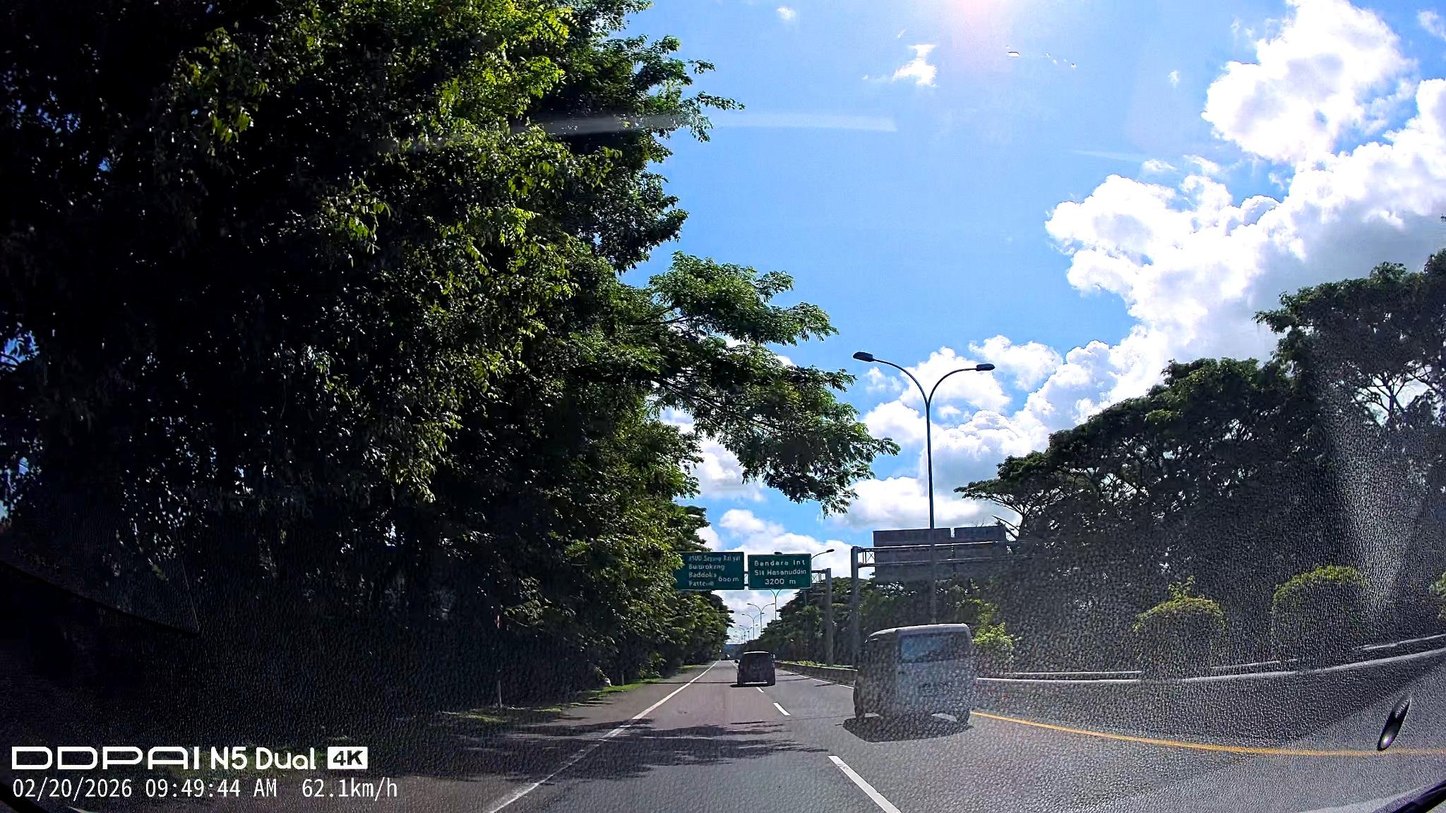rambu_teks: (686, 550, 746, 592), (747, 554, 812, 591)
